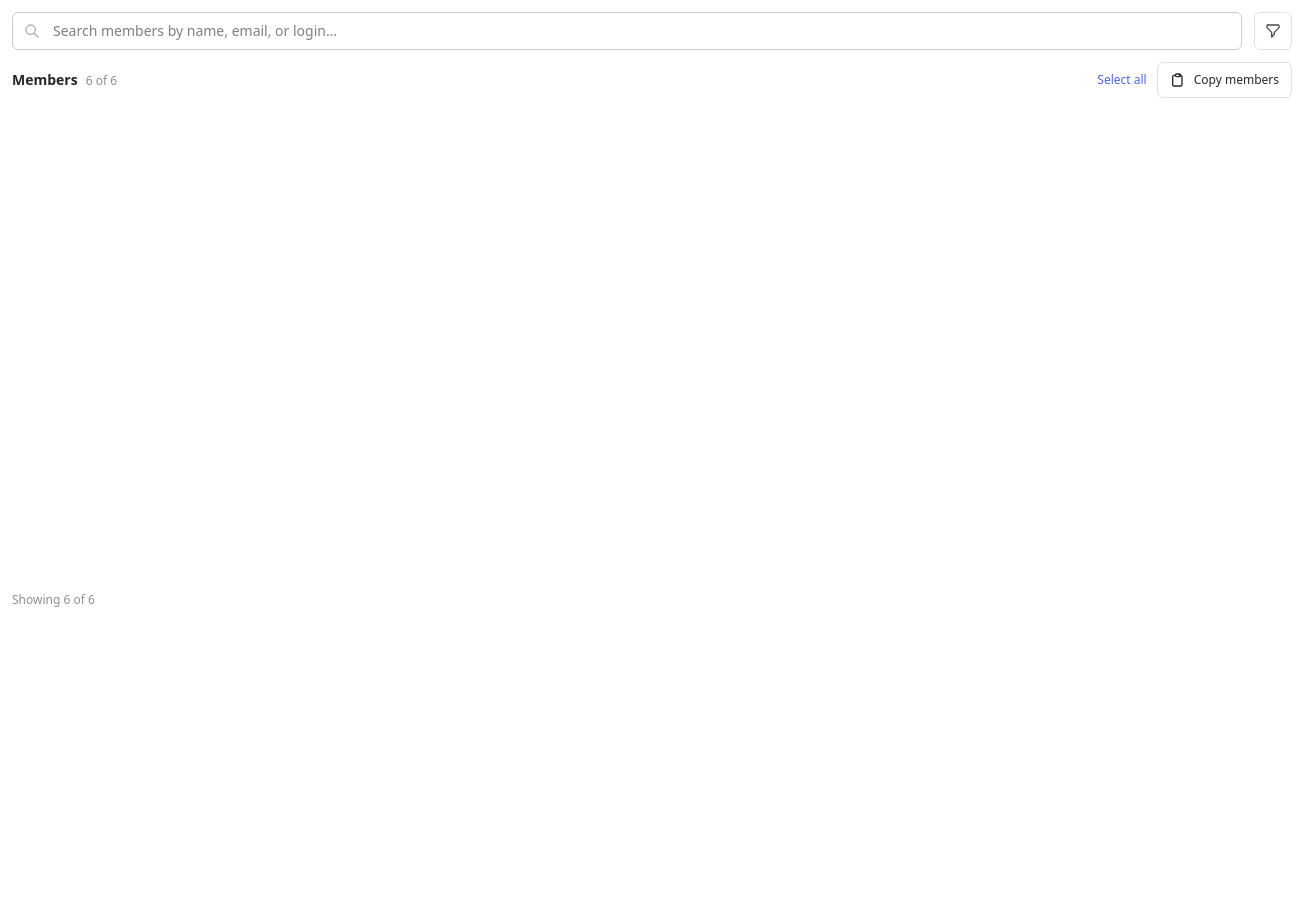
it: MemberExplorer filtering › ANDs across dimensions — a source pill and a status pill intersect
The width and height of the screenshot is (1304, 912).
Click the button named "Filters" at (1273, 31), box [1254,12,1292,50]
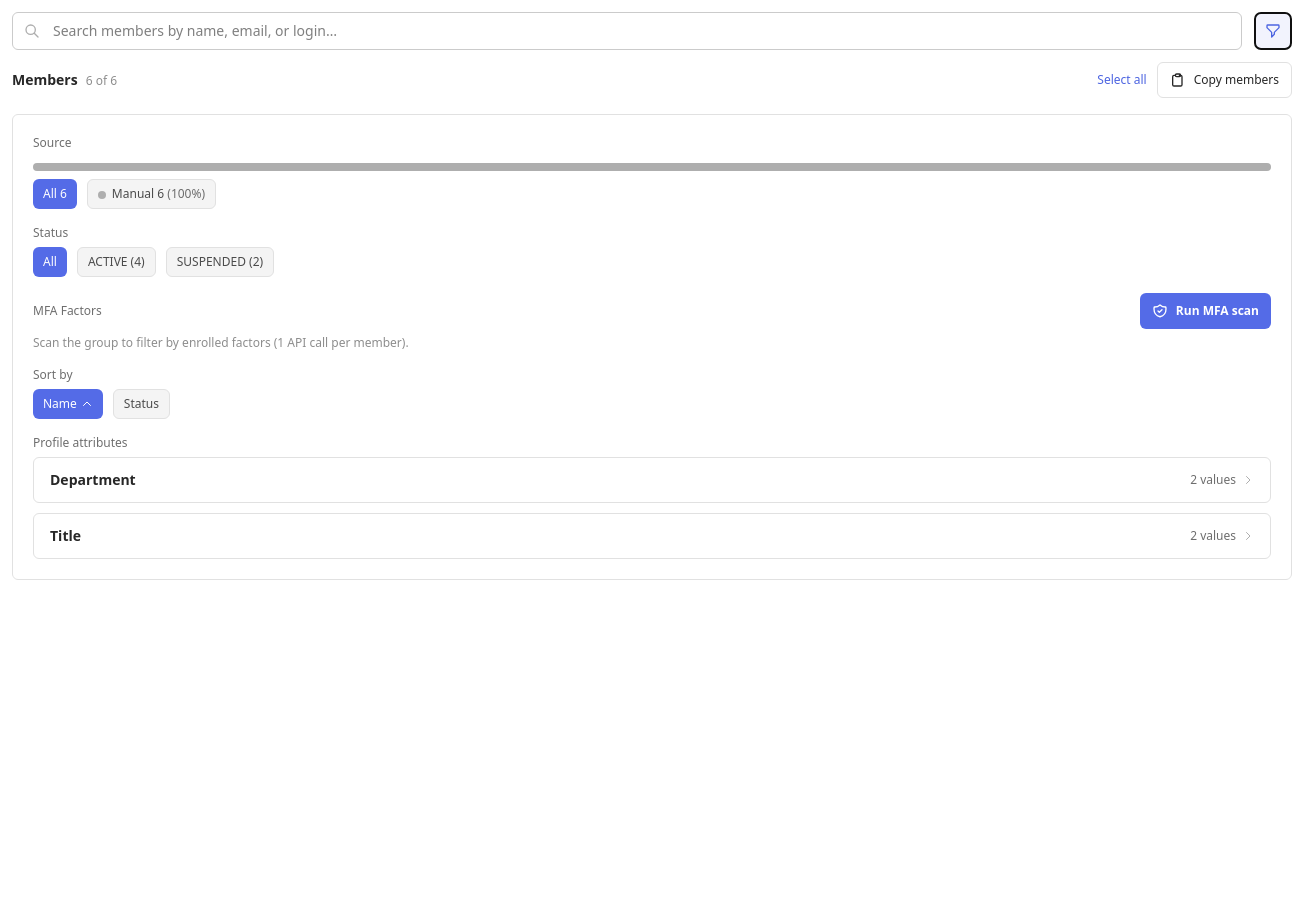
Click the button "Manual 6 (100%)" at (152, 194), box [87,179,216,209]
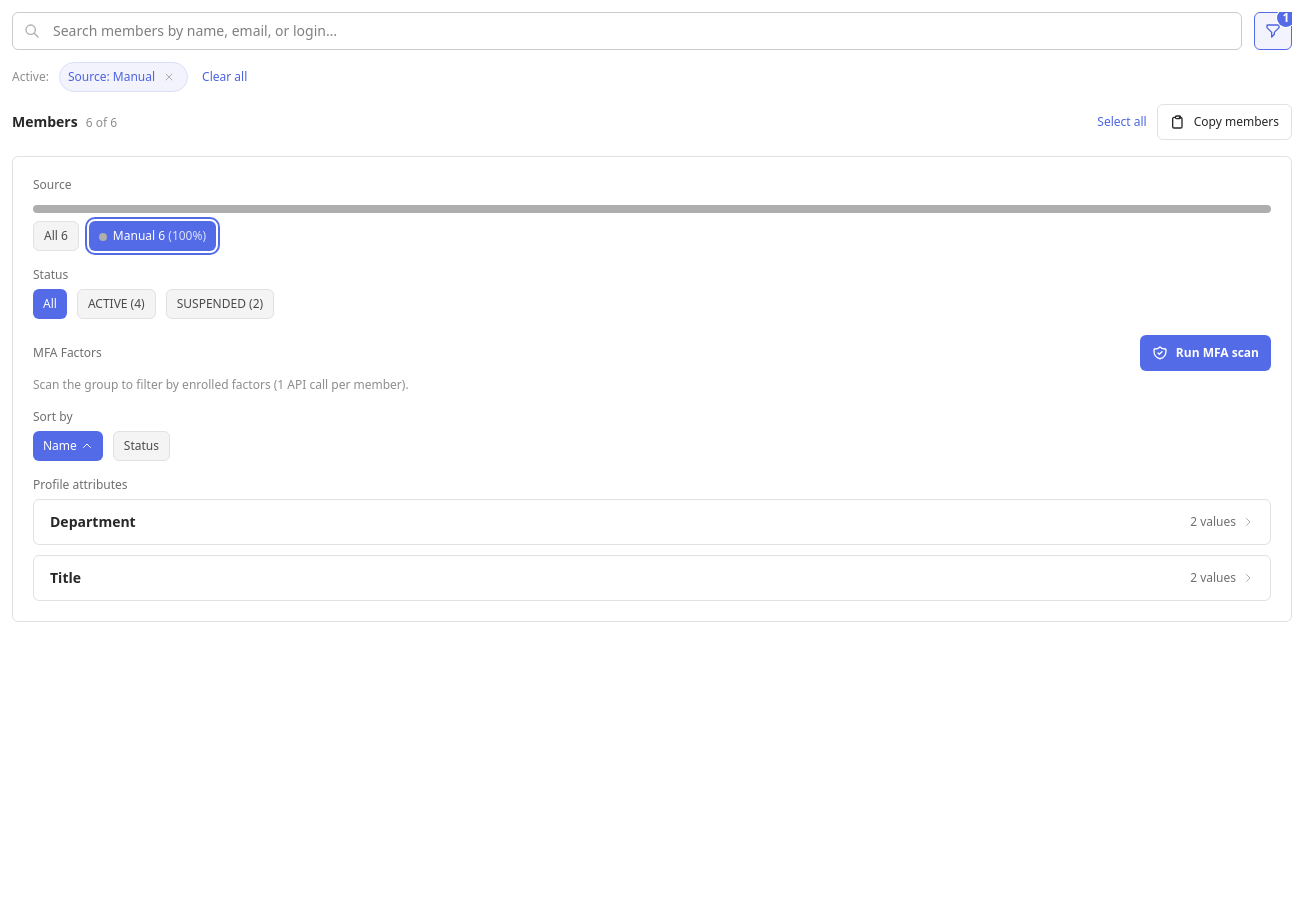
Check: the text "6 of 6" is shown, box [86,114,117,131]
Click the button "SUSPENDED (2)" at (220, 304), box [166,289,274,319]
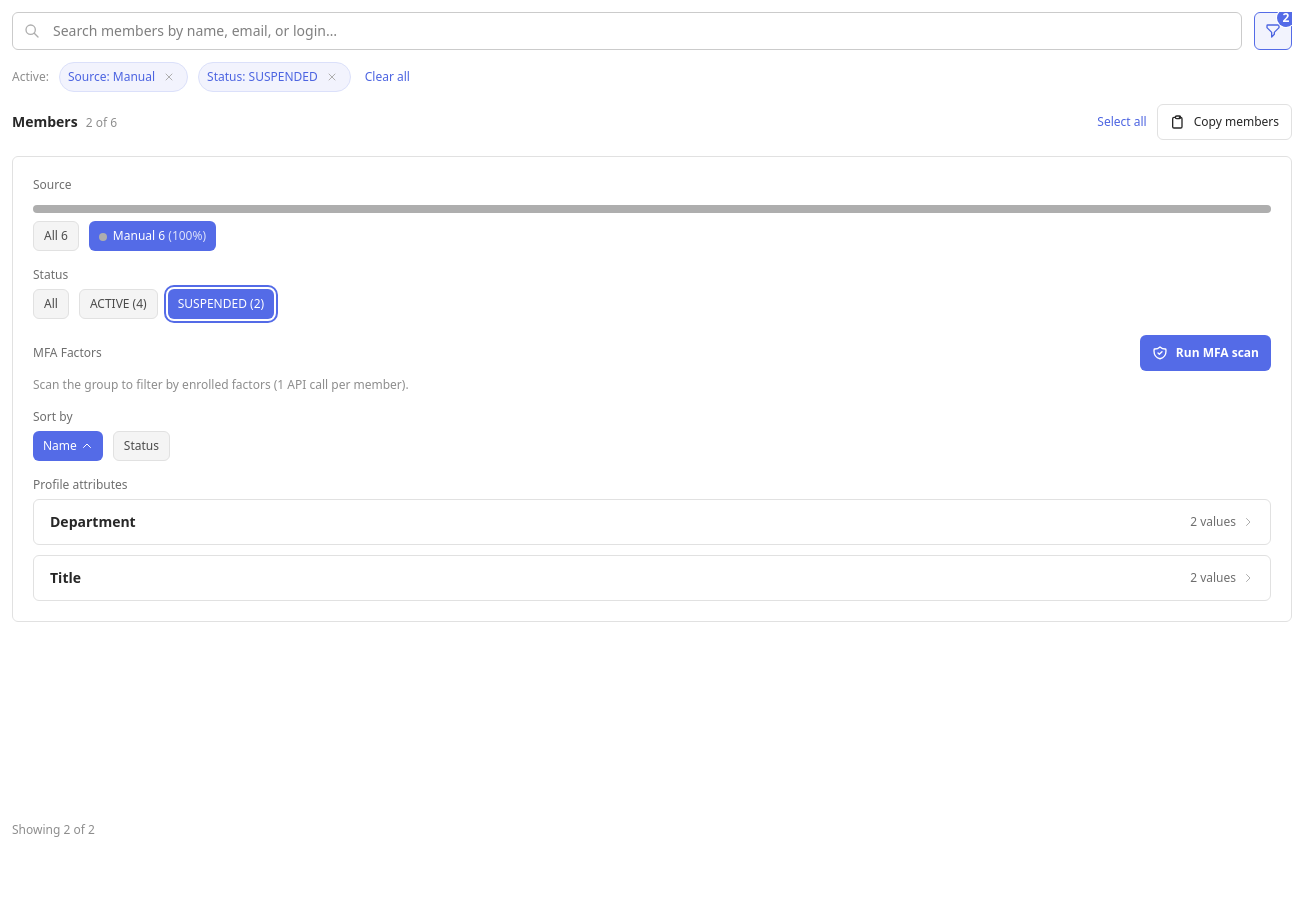
Check: the text "Source: Manual" is shown, box [59,62,188,92]
Check: the text "2 of 6" is shown, box [86,114,117,131]
Check: the text "Status: SUSPENDED" is shown, box [198,62,351,92]
